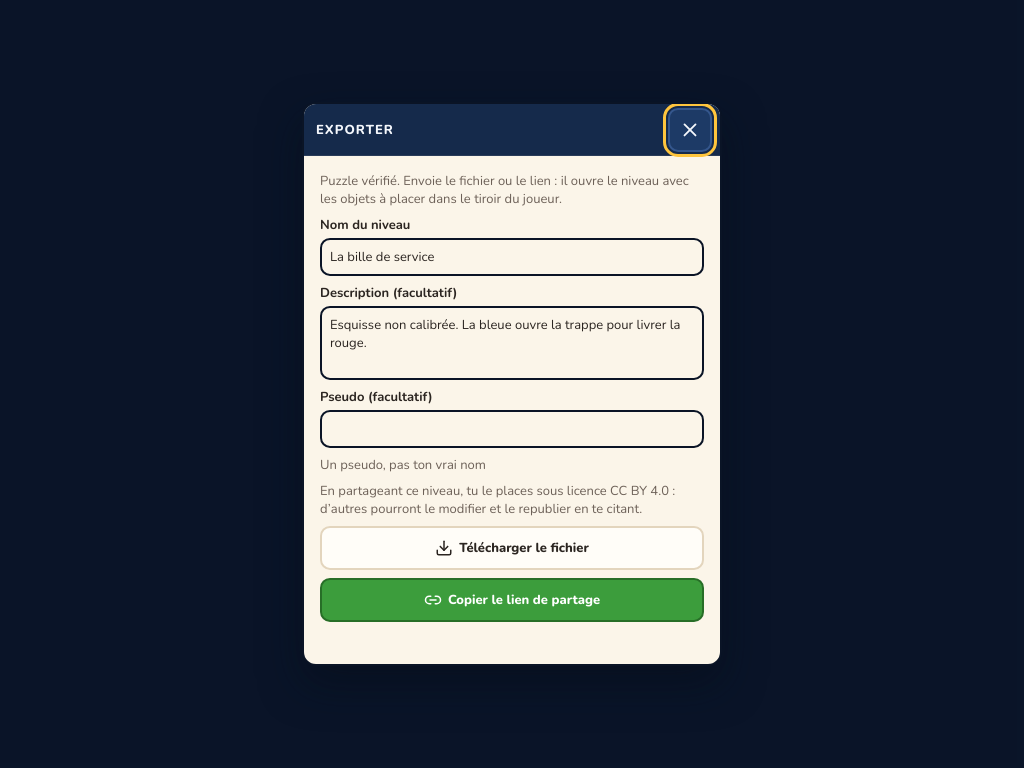
Test: boîte « Exporter » de l’atelier (U16, U22) › affiche le lien sélectionnable quand le presse-papiers refuse la copie
Click the button "Copier le lien de partage".
click(512, 600)  # box [320, 578, 704, 622]
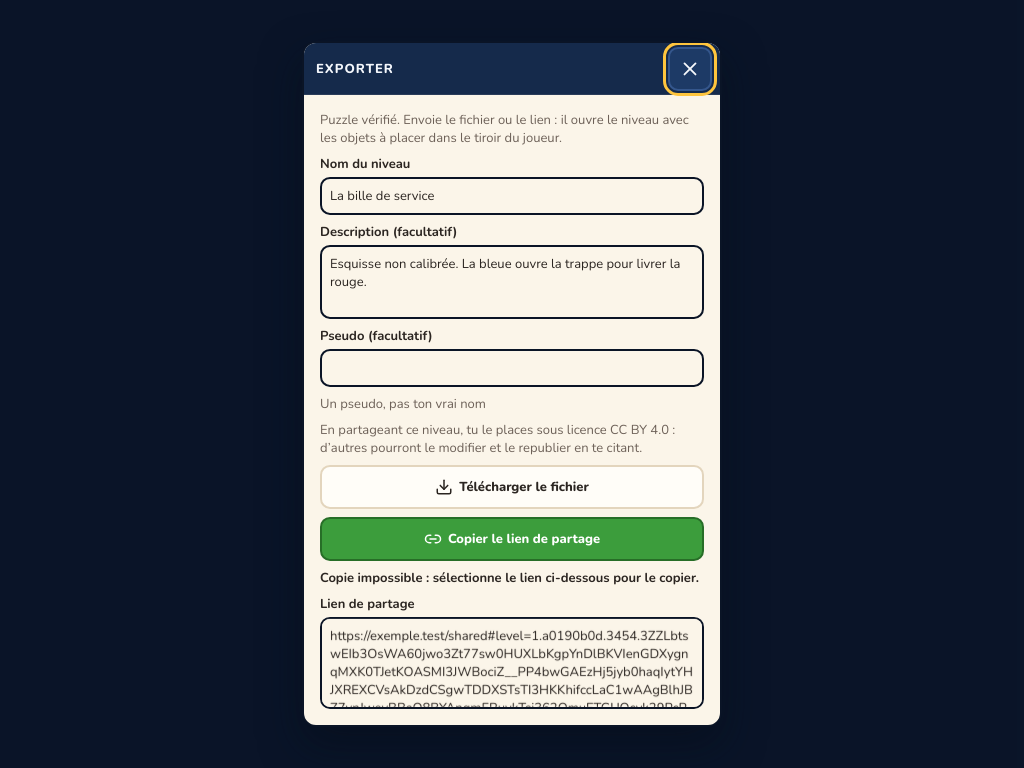
Expected: the text box labelled "Lien de partage" holds "^https:\\/\\/exemple\\.test\\/shared#level=1\\.", [320, 617, 704, 709]
Expected: the message reads "Copie impossible : sélectionne le lien ci-dessous pour le copier.", [320, 569, 699, 587]
